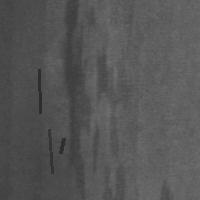inclusion: (64, 1, 126, 197), (47, 127, 54, 175), (37, 67, 42, 115), (58, 136, 65, 155)
